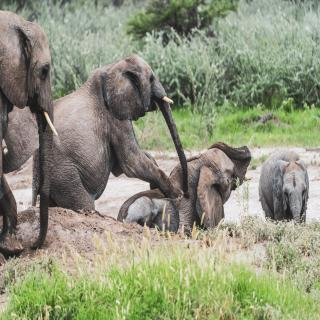Elephant: (32, 53, 192, 214), (0, 0, 61, 257), (258, 144, 312, 228)
